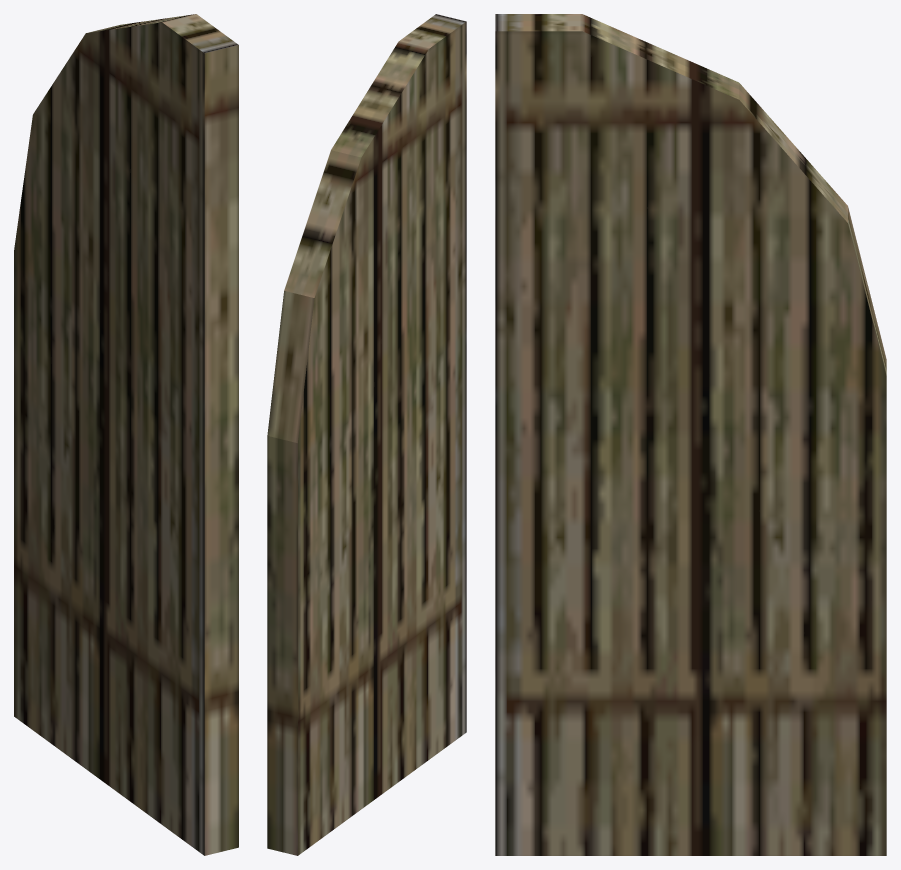
File: WOODDOOR1.glb
The picture shows the model from 3 angles, left to right: view 1: azimuth 30°, elevation 25°; view 2: azimuth 150°, elevation 25°; view 3: azimuth 270°, elevation 25°; orthographic projection. The views are drawn at different scales.
Parts seen in each view (by area): view 1: WOODDOOR1; view 2: WOODDOOR1; view 3: WOODDOOR1.
Boxes of the visible parts, x1=… form: WOODDOOR1: x1=14, y1=14, x2=238, y2=855; WOODDOOR1: x1=267, y1=14, x2=466, y2=855; WOODDOOR1: x1=495, y1=14, x2=886, y2=855.
Bounding box in the file's own units: 0.125 × 2.79 × 1.2.
Materials: 1 (1 with a texture image).
